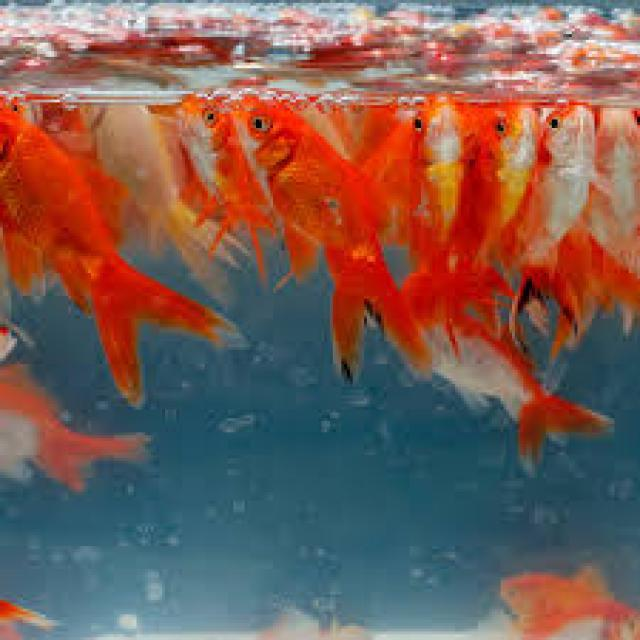goldfish: (235, 101, 420, 371)
